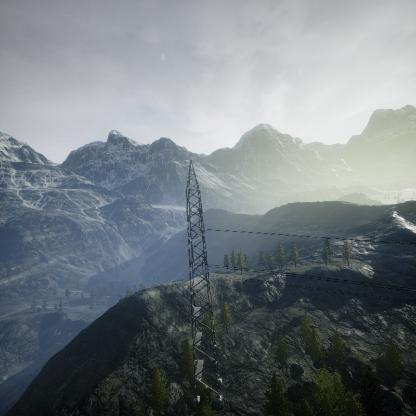tower: (181, 159, 226, 404)
